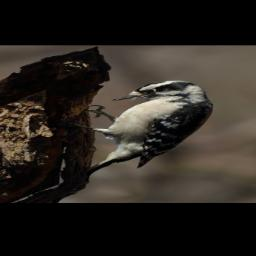Woodpecker: (17, 73, 245, 184)
